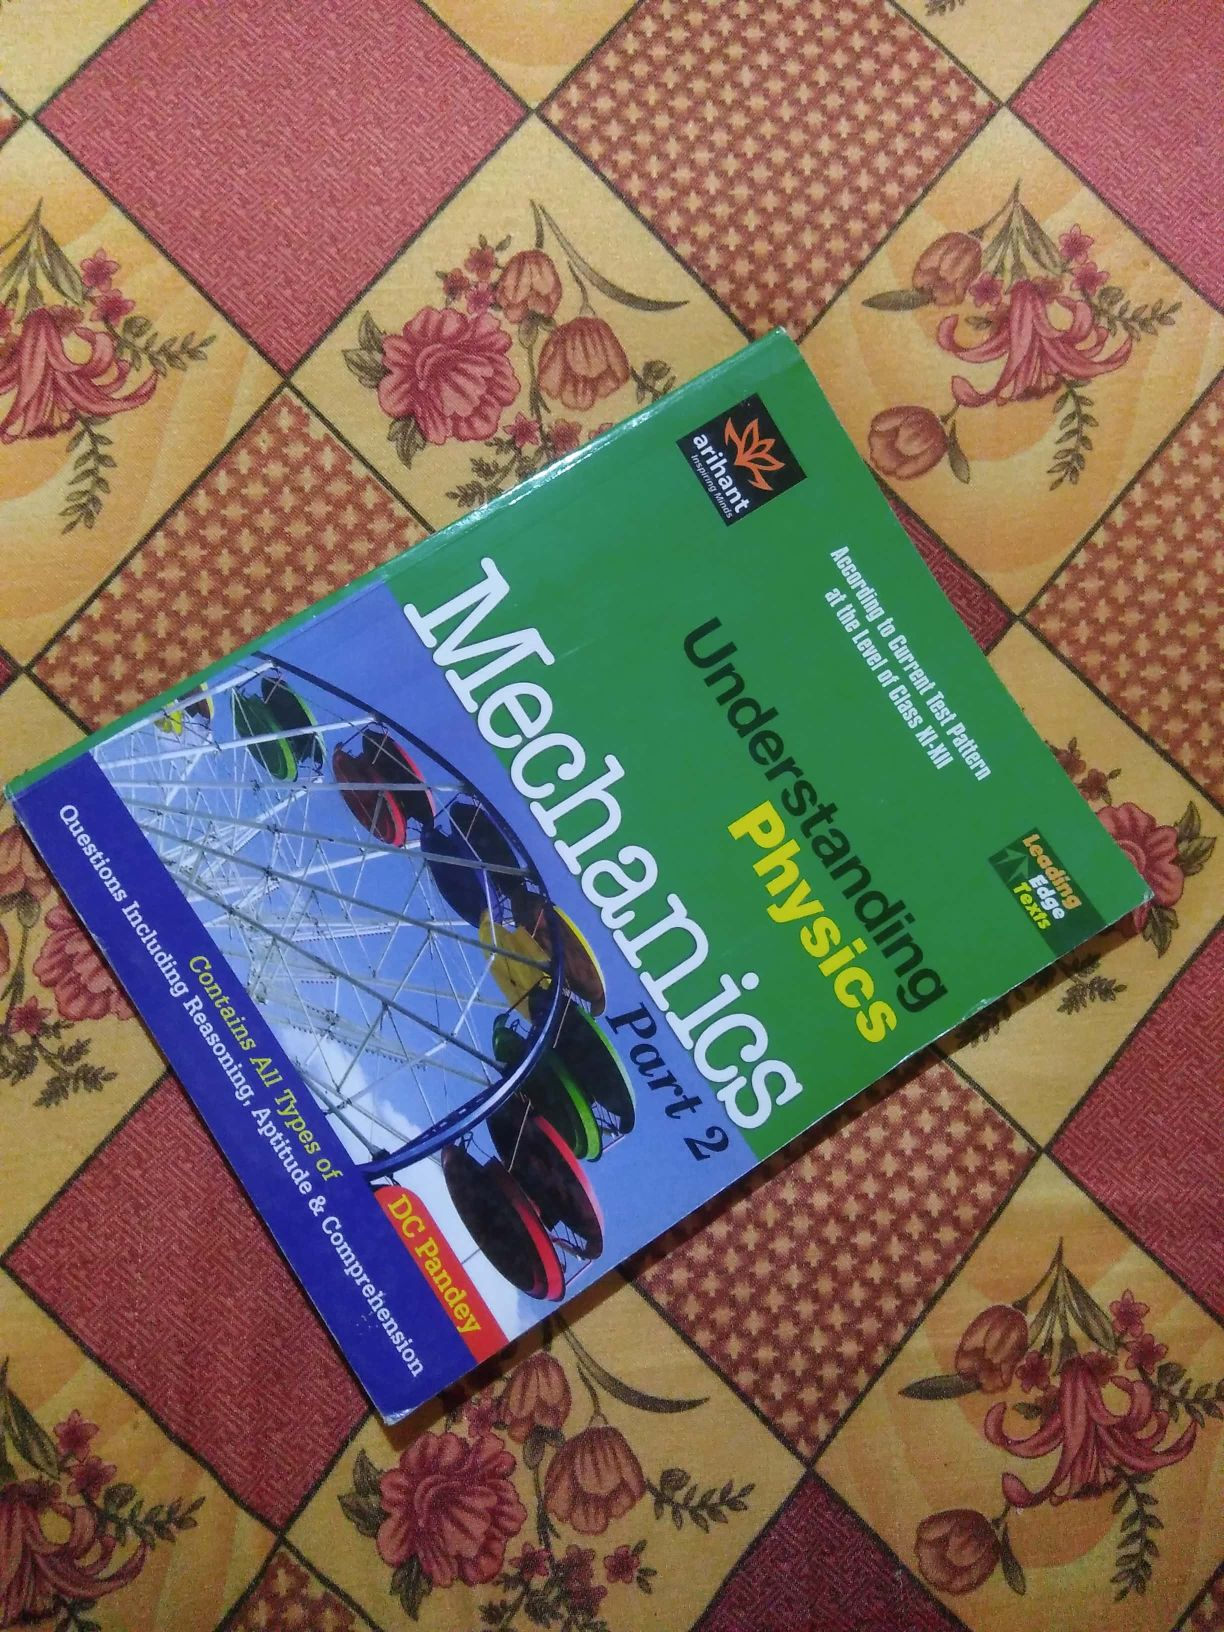mechanics: (78, 432, 1170, 1361)
